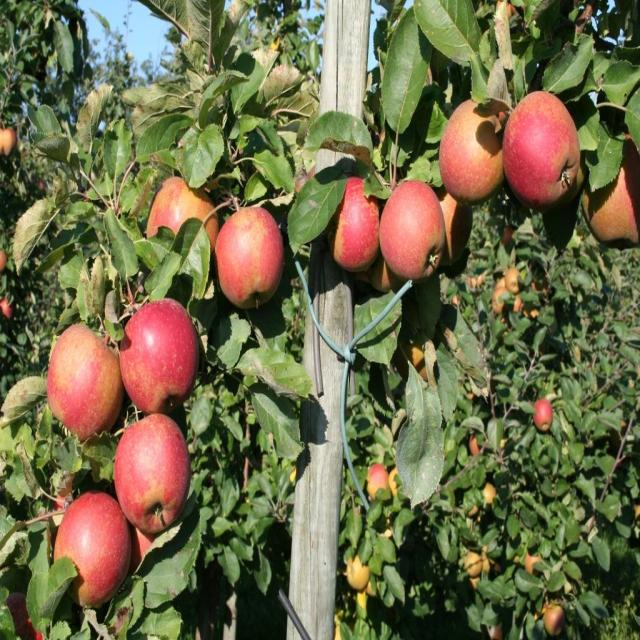Healty Apple: (112, 298, 200, 418), (344, 462, 409, 612), (112, 415, 190, 536), (50, 491, 132, 604), (48, 326, 126, 438), (503, 90, 578, 204), (214, 205, 284, 314), (440, 96, 508, 206), (143, 173, 221, 265), (379, 179, 446, 282), (582, 135, 640, 248), (324, 176, 382, 276), (428, 180, 472, 262), (490, 265, 548, 322), (3, 594, 43, 639), (129, 522, 155, 578), (371, 255, 397, 287), (407, 344, 427, 379), (546, 602, 566, 636), (532, 398, 552, 431), (1, 126, 18, 151), (463, 550, 480, 575), (522, 552, 542, 572), (478, 624, 501, 639), (482, 480, 496, 503), (0, 299, 14, 318), (482, 544, 489, 576), (470, 430, 480, 452), (469, 577, 477, 594), (0, 251, 6, 271), (470, 505, 479, 514)
